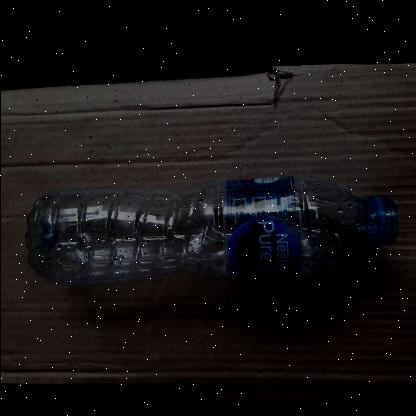Plastic Bottle: (25, 176, 397, 282)
